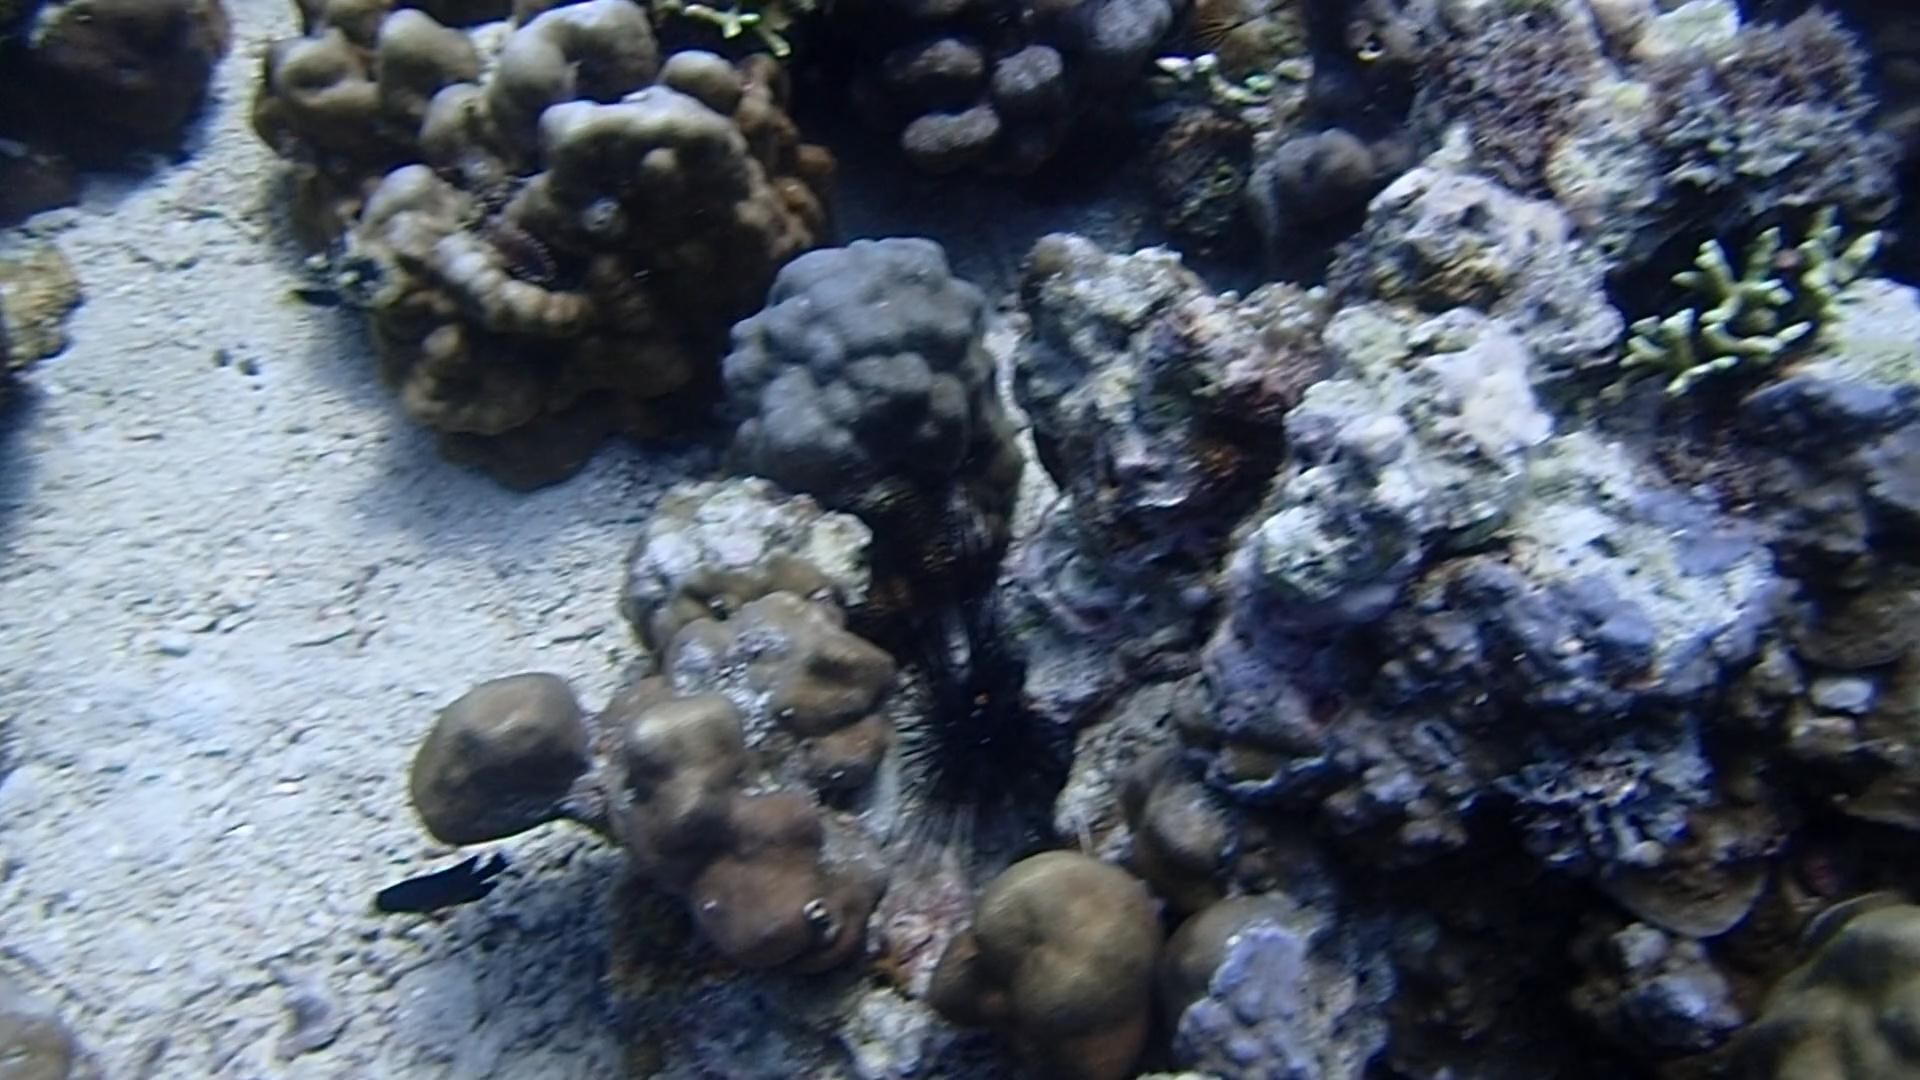Dark Fish: (351, 845, 513, 931)
Yellow Tail: (270, 269, 351, 326)
